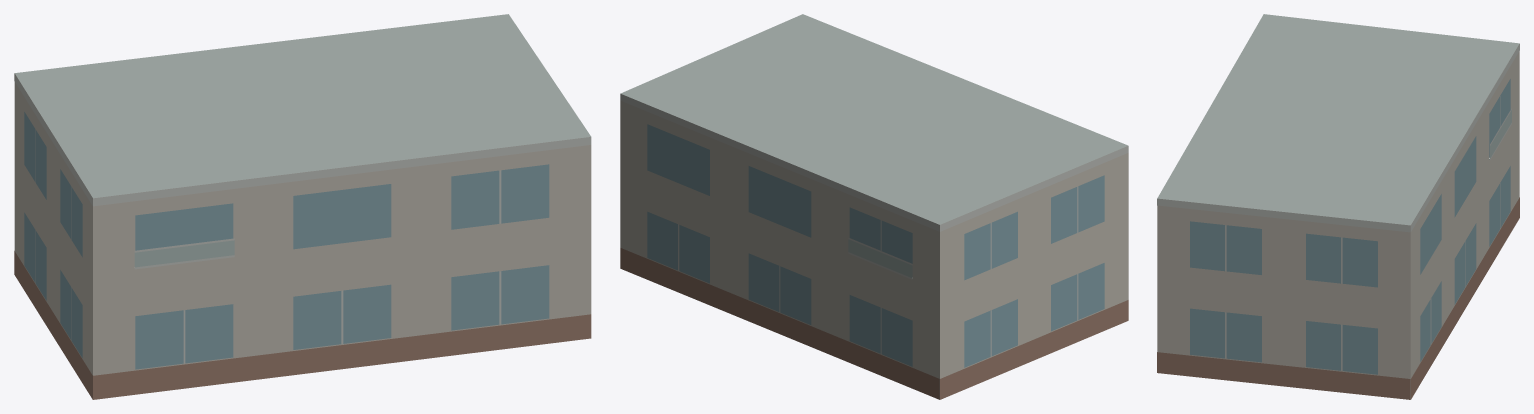
File: survey-upis-32959972.glb
The picture shows the model from 3 angles, left to right: view 1: azimuth 30°, elevation 25°; view 2: azimuth 150°, elevation 25°; view 3: azimuth 270°, elevation 25°; orthographic projection. The views are drawn at different scales.
Visible parts, largest first — view 1: survey-upis-32959972.tmp; view 2: survey-upis-32959972.tmp; view 3: survey-upis-32959972.tmp.
Part boxes in pixels (x1,y1,x2,y2): survey-upis-32959972.tmp: (14, 14, 591, 399); survey-upis-32959972.tmp: (620, 14, 1128, 399); survey-upis-32959972.tmp: (1157, 14, 1519, 399).
Size of the model in its own units: 15.87 by 6.1 by 11.5.
